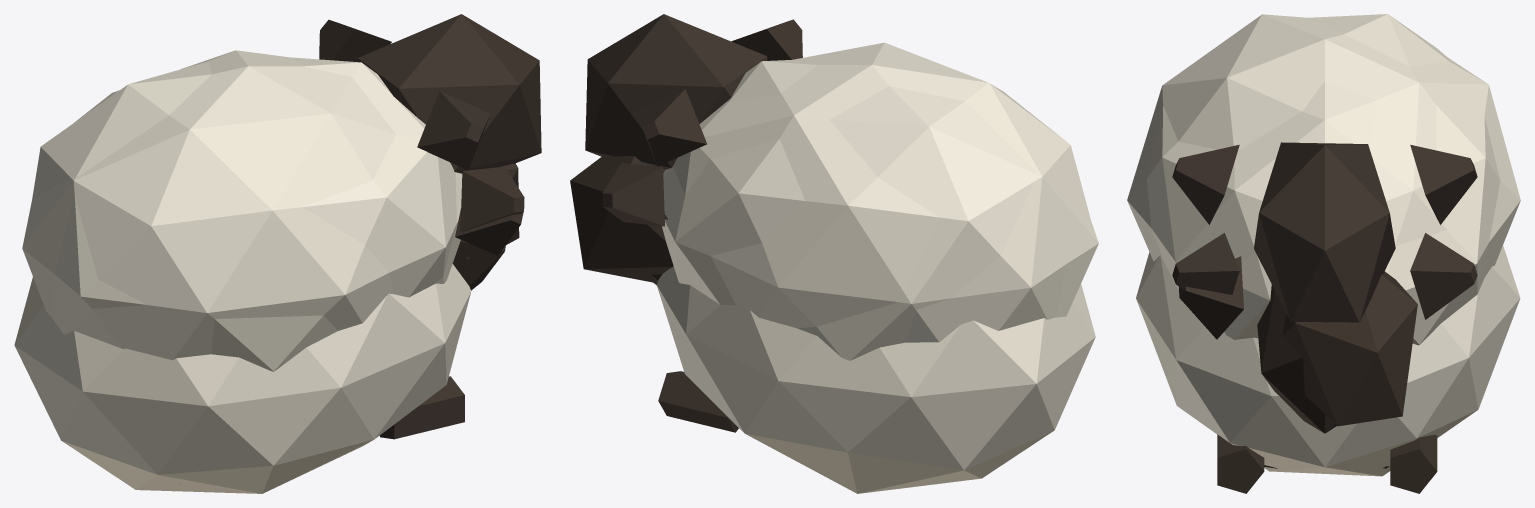
Rendered from sheep.glb.
The picture shows the model from 3 angles, left to right: view 1: azimuth 30°, elevation 25°; view 2: azimuth 150°, elevation 25°; view 3: azimuth 270°, elevation 25°; orthographic projection. The views are drawn at different scales.
Visible parts, largest first — view 1: sheep_variant_0, sheep_variant_2, sheep_variant_1; view 2: sheep_variant_0, sheep_variant_2, sheep_variant_1; view 3: sheep_variant_0, sheep_variant_2, sheep_variant_1.
Part boxes in pixels (x1,y1,x2,y2): sheep_variant_0: (22,14,541,484); sheep_variant_2: (14,163,523,493); sheep_variant_1: (32,57,524,371); sheep_variant_0: (585,14,1090,342); sheep_variant_2: (570,155,1095,493); sheep_variant_1: (602,60,1098,360); sheep_variant_0: (1127,14,1520,468); sheep_variant_2: (1136,245,1520,493); sheep_variant_1: (1147,14,1500,433).
Bounding box in the file's own units: 0.1117 × 0.0889 × 0.0758.
